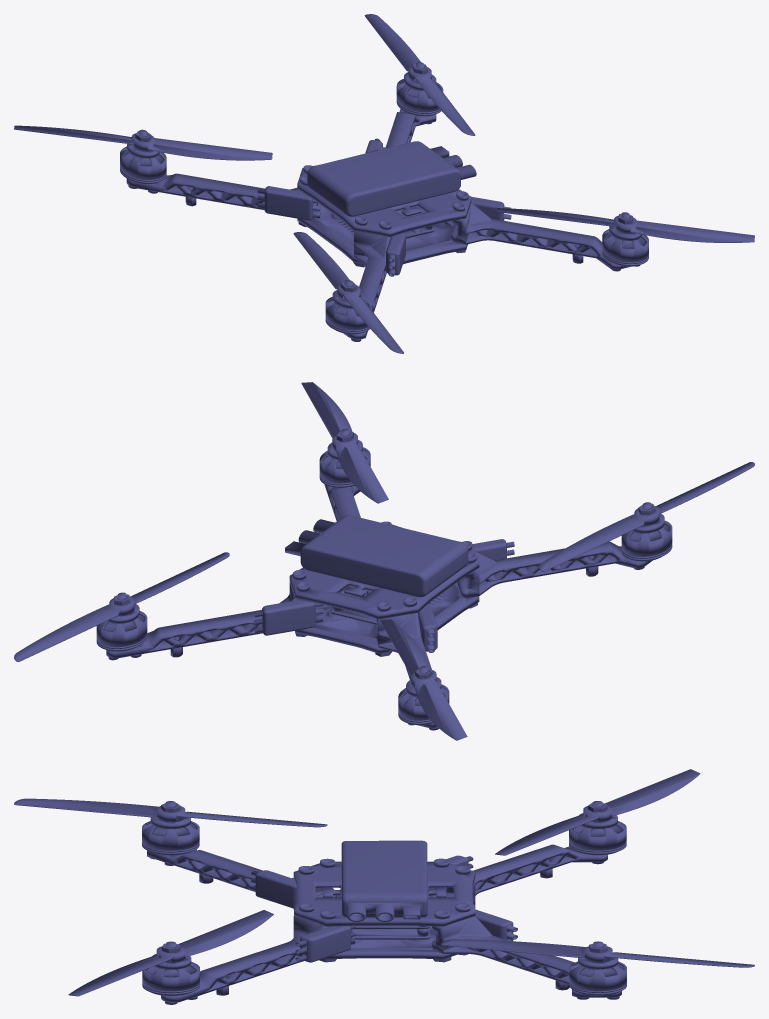
Rendered from dronemove.glb.
3 views of the same model, one above another, from view 1: azimuth 30°, elevation 25°; view 2: azimuth 150°, elevation 25°; view 3: azimuth 270°, elevation 25° (orthographic). The views are drawn at different scales.
Visible parts, largest first — view 1: Assem2; view 2: Assem2; view 3: Assem2.
Part boxes in pixels (box(x1,y1,x2,y2)): Assem2: box(14, 14, 754, 353); Assem2: box(14, 382, 754, 740); Assem2: box(14, 769, 754, 1004).
Size of what is drawn, in the model's own units: 9.63 by 1.34 by 13.3.
